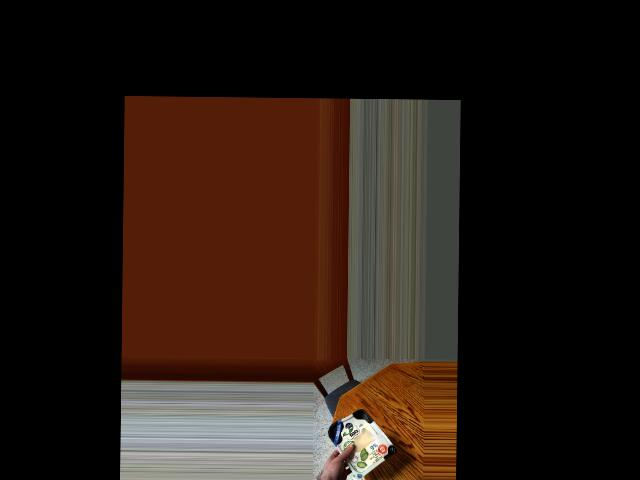cheese: (325, 408, 391, 468)
